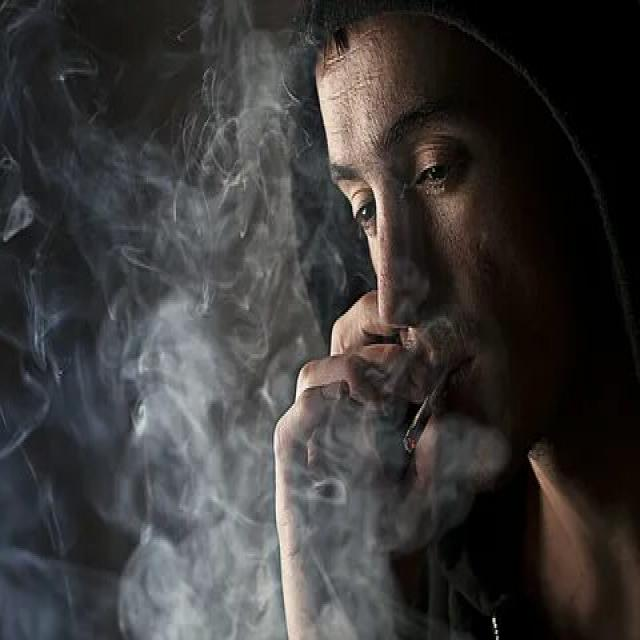cigarette: (401, 370, 448, 460)
